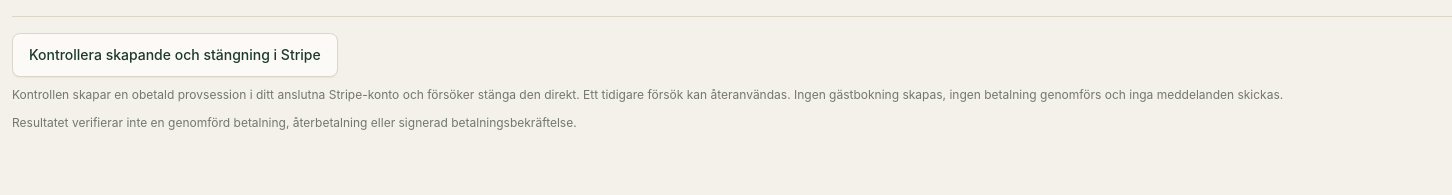
Test: explicit owner Stripe create-and-close check › renders fixed text for attempt_requires_followup and discards unexpected provider/customer fields
Click the button "Kontrollera skapande och stängning i Stripe" at (175, 55), box left=12, top=33, right=338, bottom=77
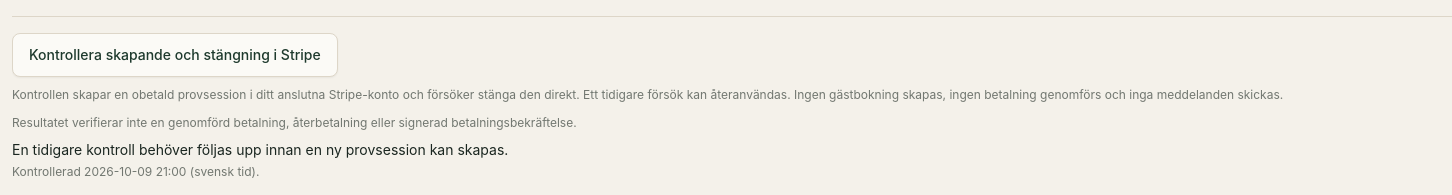
Now the message shows "En tidigare kontroll behöver följas upp innan en ny provsession kan skapas.", box left=12, top=141, right=508, bottom=158
